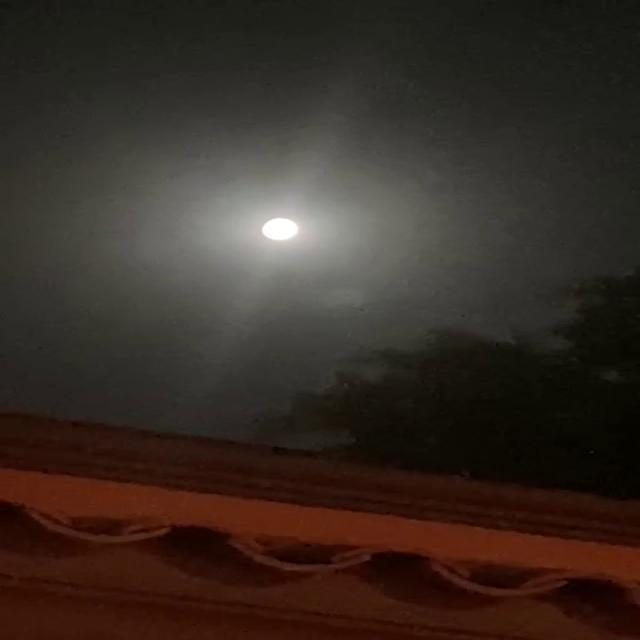moon: (265, 206, 323, 244)
